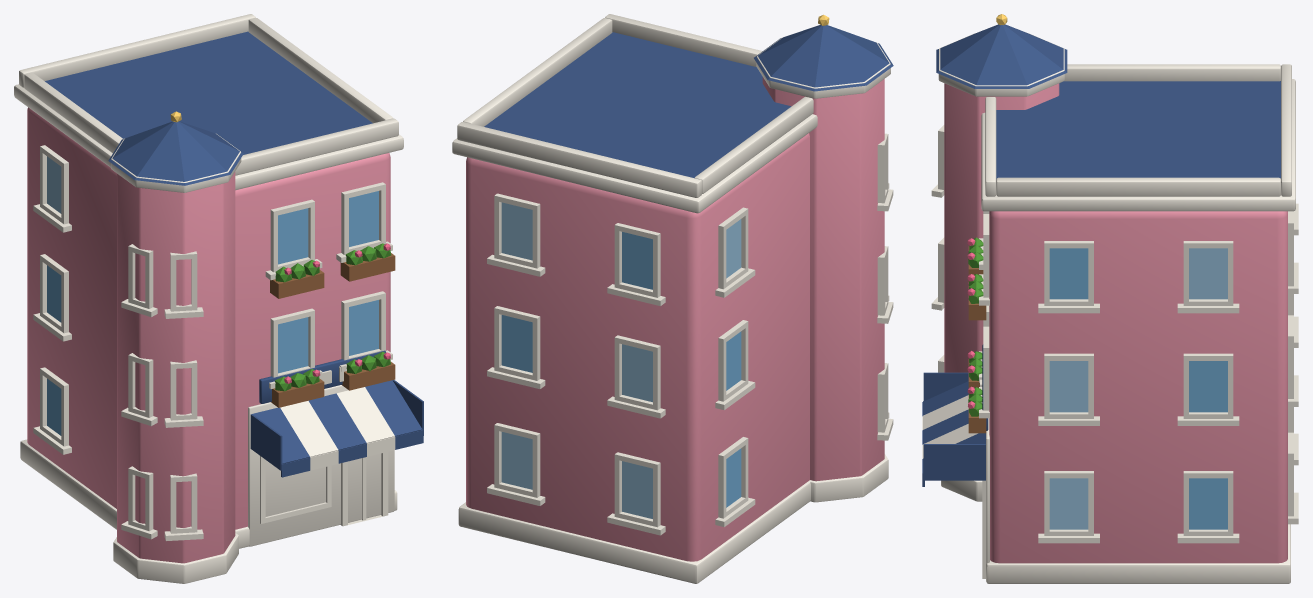
Rendered from building_turret.glb.
3 renders of one model, left to right at view 1: azimuth 30°, elevation 25°; view 2: azimuth 150°, elevation 25°; view 3: azimuth 270°, elevation 25°, orthographic. The views are drawn at different scales.
Parts seen in each view (by area): view 1: building; view 2: building; view 3: building.
Boxes of the visible parts, x1,y1,x2,y2 form: building: [14, 14, 423, 583]; building: [452, 14, 893, 583]; building: [922, 14, 1298, 583].
Bounding box in the file's own units: 6.72 × 10.25 × 7.55.
